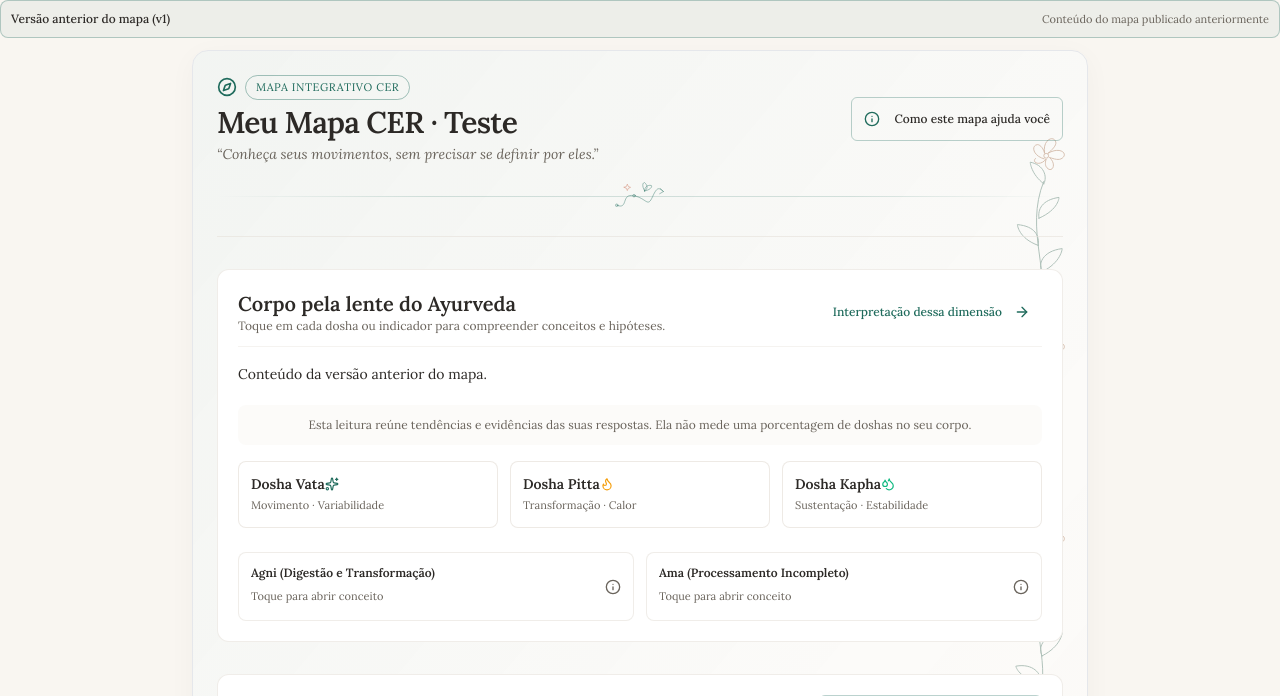
Test case: Mapa CER: somente a publicação revisada, em duas profundidades › mantém publicações legadas literais sem inventar uma interpretação nova
Click the button with aria-label "Interpretação dessa dimensão: Corpo" at (931, 312), box [821,290,1042,334]
(page scrolled)
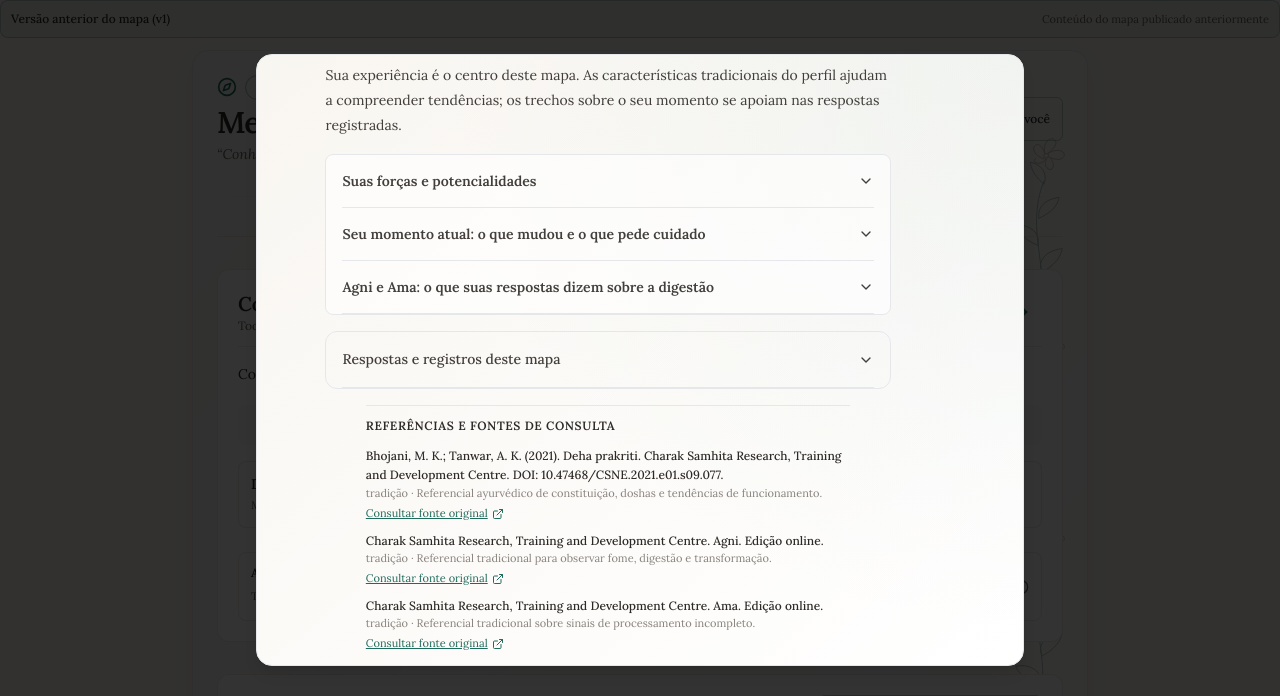
Click the button "Respostas e registros deste mapa" at (451, 359), box [342,332,874,387]
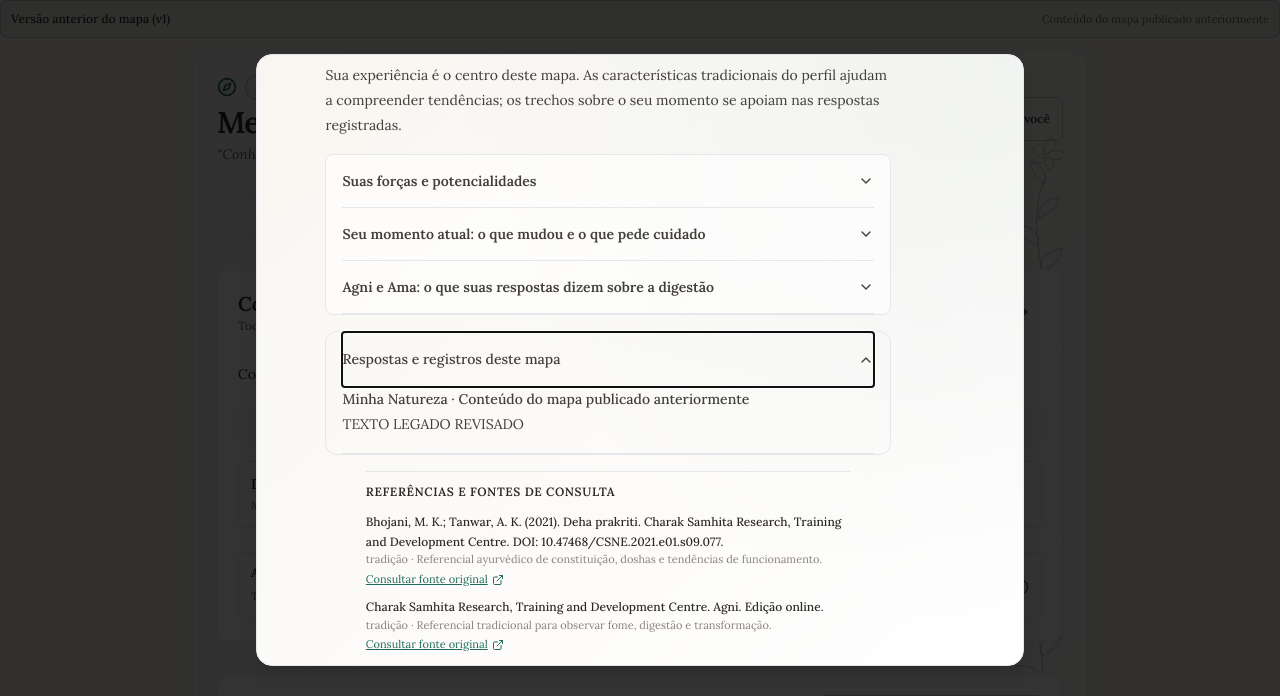
Expected: the text "TEXTO LEGADO REVISADO" is shown, [342,415,524,433]
